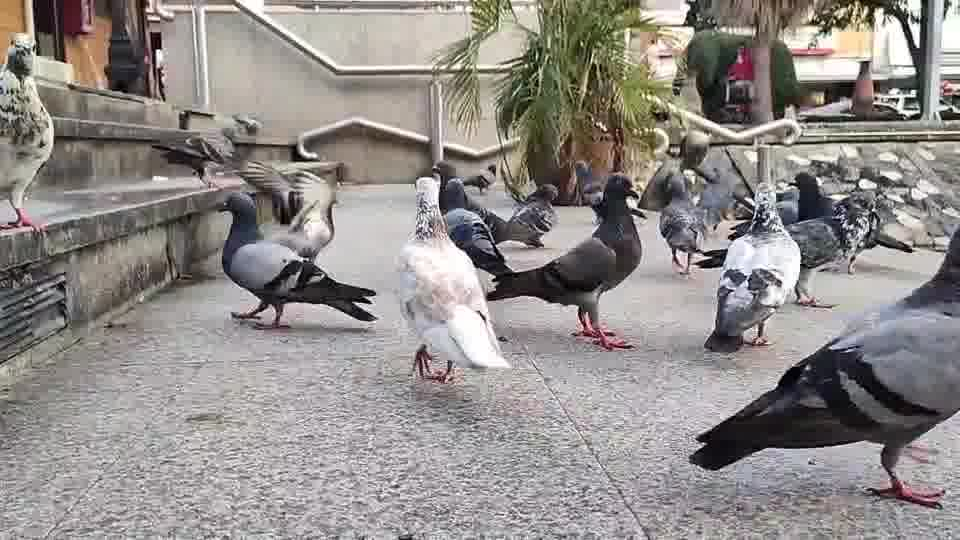Pigeon: (688, 223, 959, 509), (484, 172, 647, 351), (395, 175, 512, 383), (214, 190, 378, 330), (700, 182, 802, 353), (0, 31, 55, 235), (658, 173, 708, 276), (270, 197, 342, 262)
